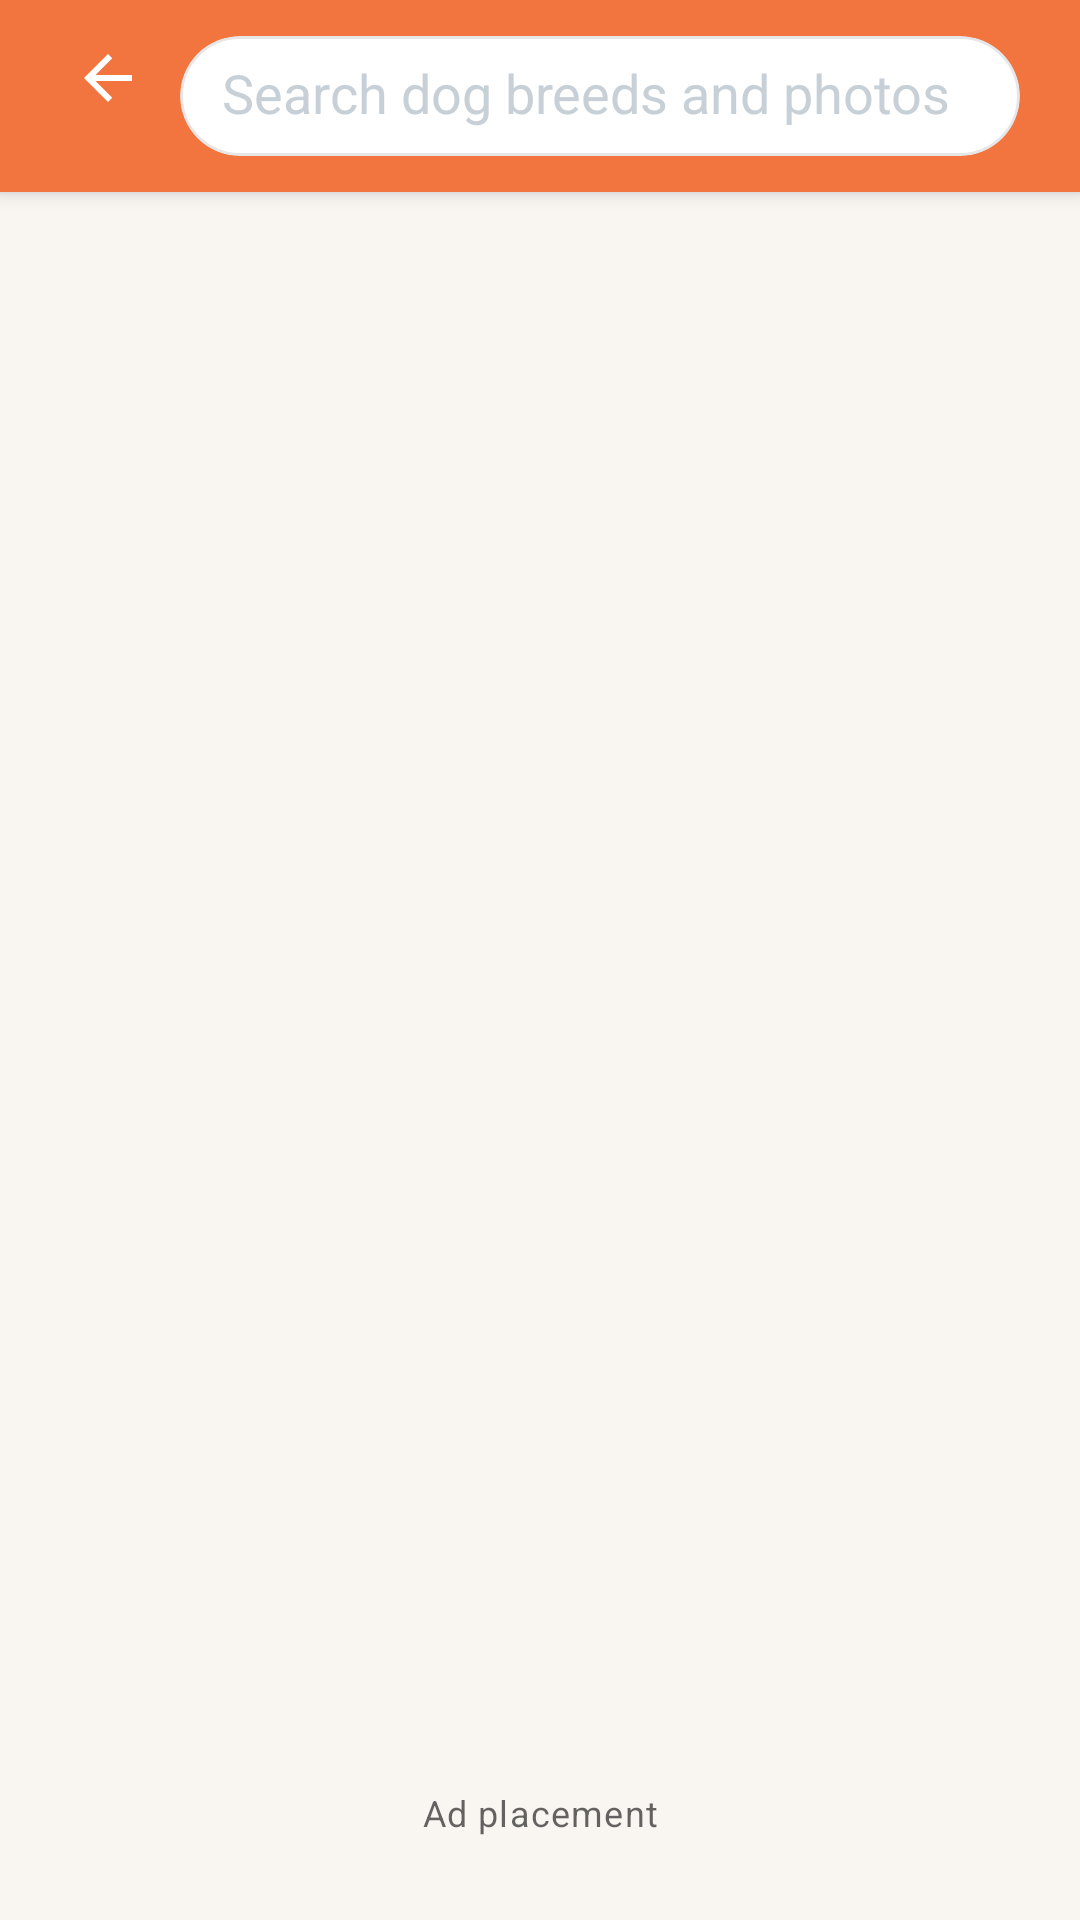

Named icons in this screenshot (1080px x 1920px) and their bounding boxes, (x1, y1, x2, y2):
Go back: (84, 54, 132, 102)
